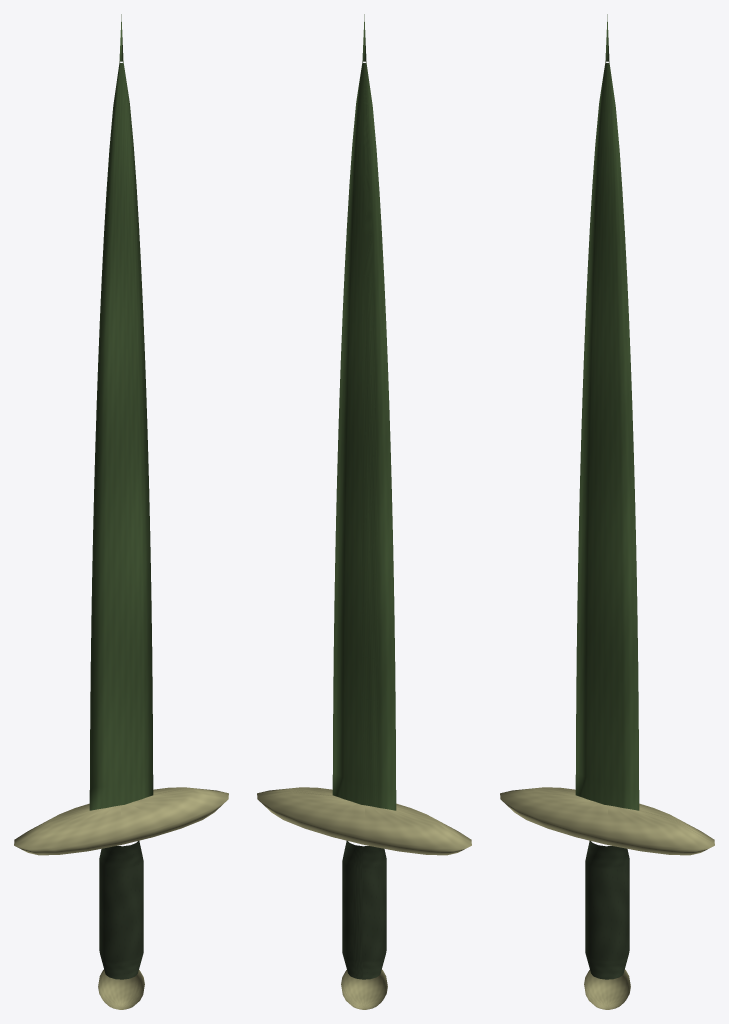
File: ranger_leafblade.glb
3 renders of one model, left to right at view 1: azimuth 30°, elevation 25°; view 2: azimuth 150°, elevation 25°; view 3: azimuth 330°, elevation 25°, orthographic.
Visible parts, largest first — view 1: Ranger Leafblade; view 2: Ranger Leafblade; view 3: Ranger Leafblade.
Part boxes in pixels (x1,y1,x2,y2): Ranger Leafblade: [14, 14, 228, 1009]; Ranger Leafblade: [257, 14, 471, 1009]; Ranger Leafblade: [500, 14, 714, 1009].
Bounding box in the file's own units: 0.21 × 0.928 × 0.0591.
Materials: 3 (3 with a texture image).
